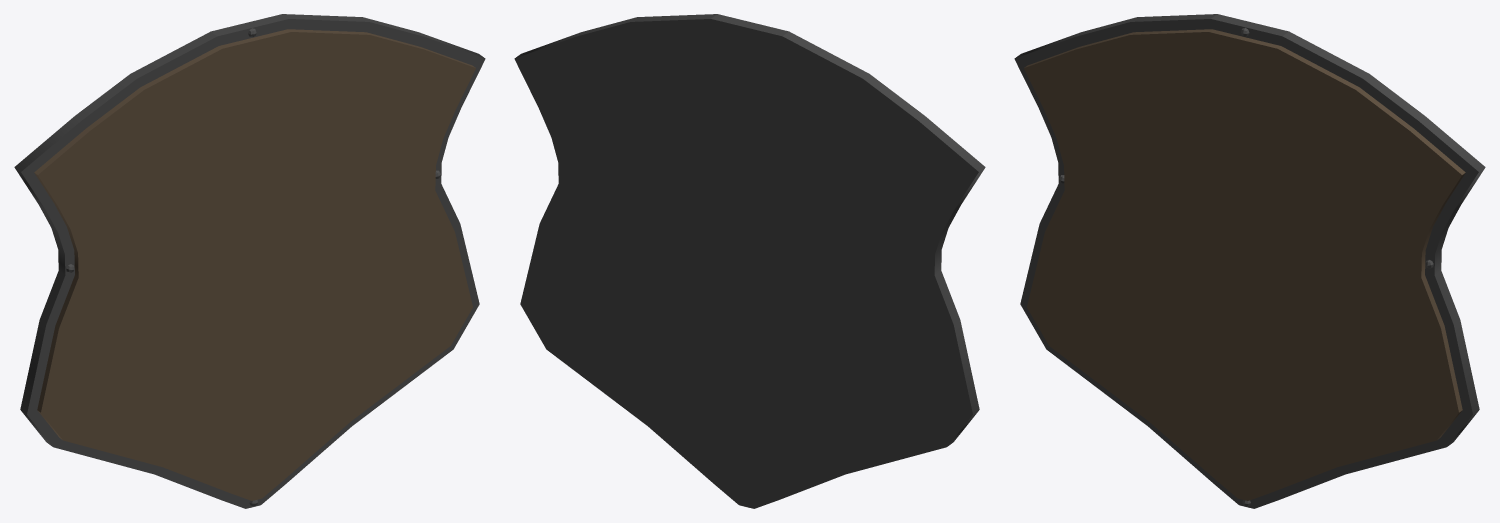
The model's file is K_Wooden_Sign.fbx.
3 views of the same model, side by side, from view 1: azimuth 30°, elevation 25°; view 2: azimuth 150°, elevation 25°; view 3: azimuth 330°, elevation 25° (orthographic).
Parts seen in each view (by area): view 1: I_Wooden_Sign; view 2: I_Wooden_Sign; view 3: I_Wooden_Sign.
Part boxes in pixels (<box>): I_Wooden_Sign: <box>14,14,485,508</box>; I_Wooden_Sign: <box>514,14,985,508</box>; I_Wooden_Sign: <box>1014,14,1485,508</box>.
Bounding box in the file's own units: 7.3 × 7.2 × 0.282.
